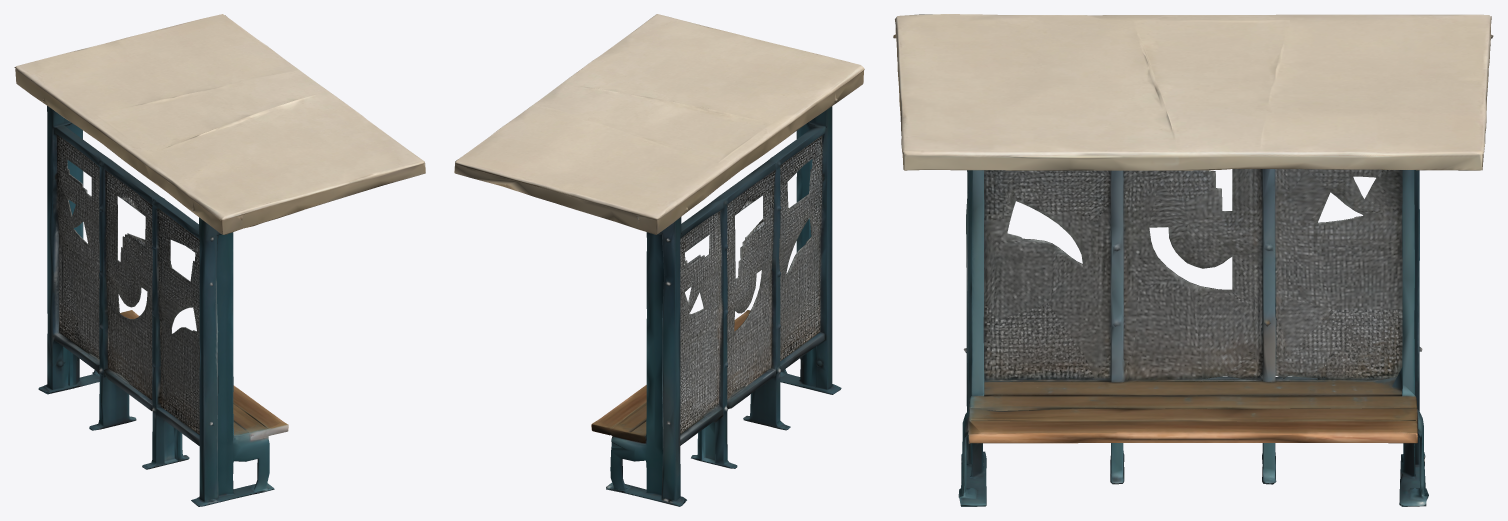
File: marquesina.glb
3 renders of one model, left to right at view 1: azimuth 30°, elevation 25°; view 2: azimuth 150°, elevation 25°; view 3: azimuth 270°, elevation 25°, orthographic. The views are drawn at different scales.
Parts seen in each view (by area): view 1: tripo_node_a6b03608-1911-427f-980f-196cacbddfb2; view 2: tripo_node_a6b03608-1911-427f-980f-196cacbddfb2; view 3: tripo_node_a6b03608-1911-427f-980f-196cacbddfb2.
Boxes of the visible parts, x1,y1,x2,y2 form: tripo_node_a6b03608-1911-427f-980f-196cacbddfb2: [14, 14, 425, 506]; tripo_node_a6b03608-1911-427f-980f-196cacbddfb2: [454, 14, 864, 506]; tripo_node_a6b03608-1911-427f-980f-196cacbddfb2: [893, 14, 1493, 506].
Bounding box in the file's own units: 1.67 × 2.4 × 2.91.
1 material, 1 textured.
